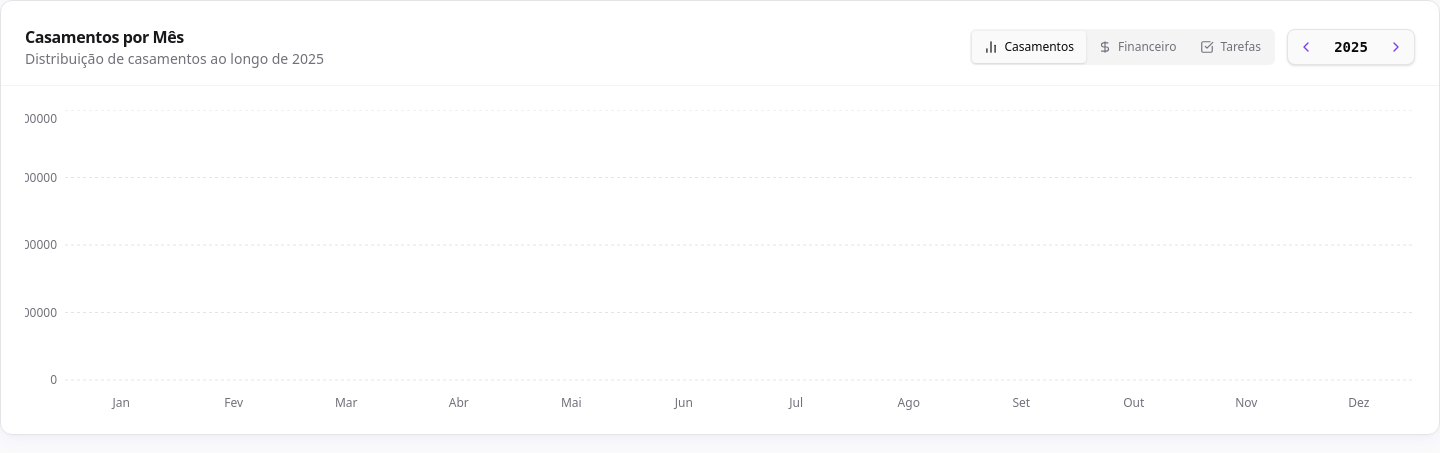
Test case: WeddingMonthlyChart › renders task progress bars with populated data
Click the tab "Tarefas". click: (1231, 47)
box: [1188,31,1273,63]
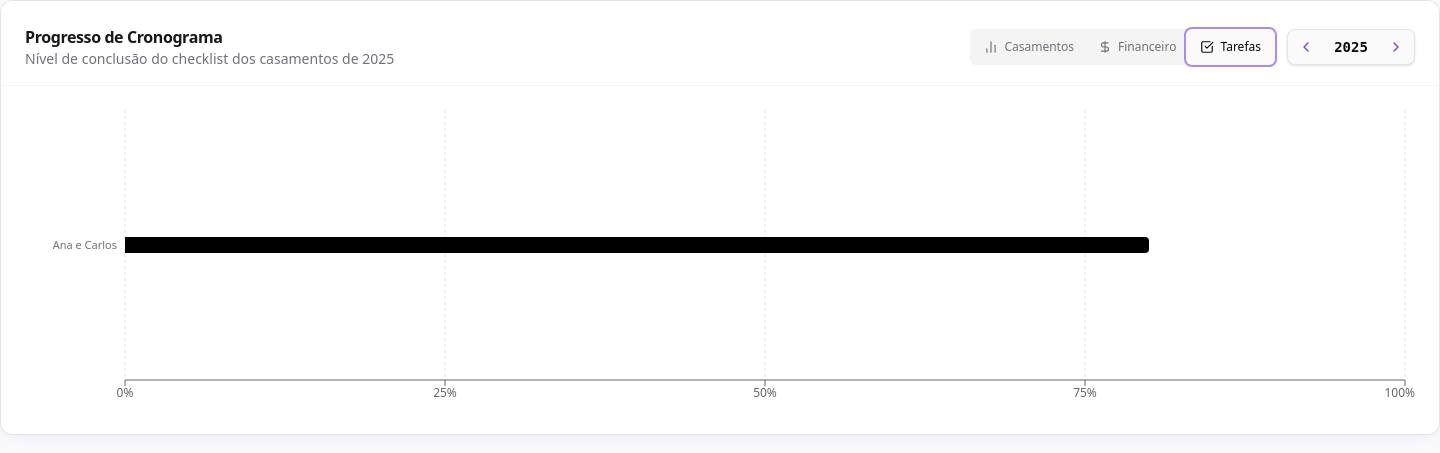
Expected: the heading "Progresso de Cronograma" is shown, [25,26,222,48]
